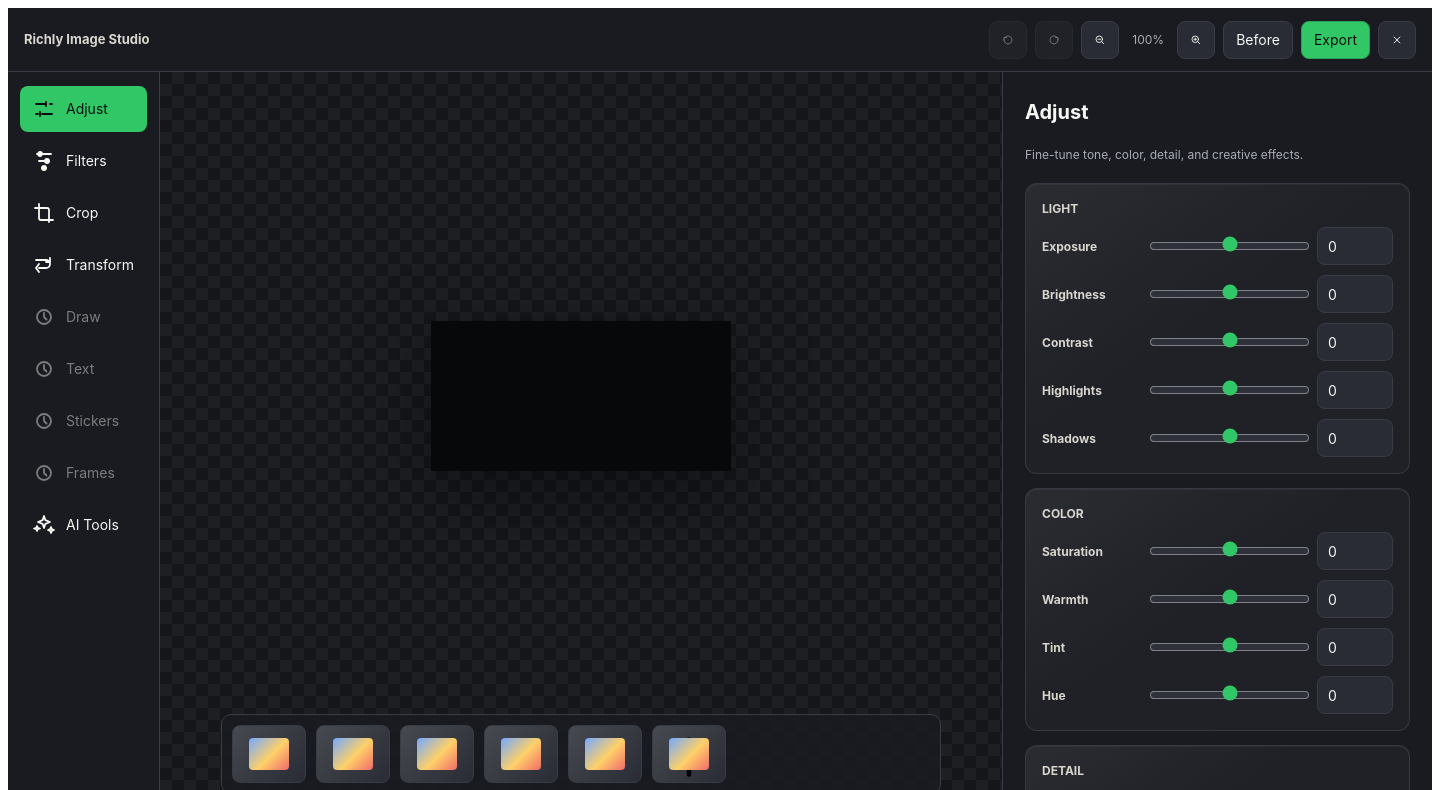
Test: ImageStudio UI and controller › enables AI Tools and surfaces provider status without auto-applying edits
The image size is (1440, 790).
Click the button "AI Tools" at x=84, y=525, box [20,502,147,548]
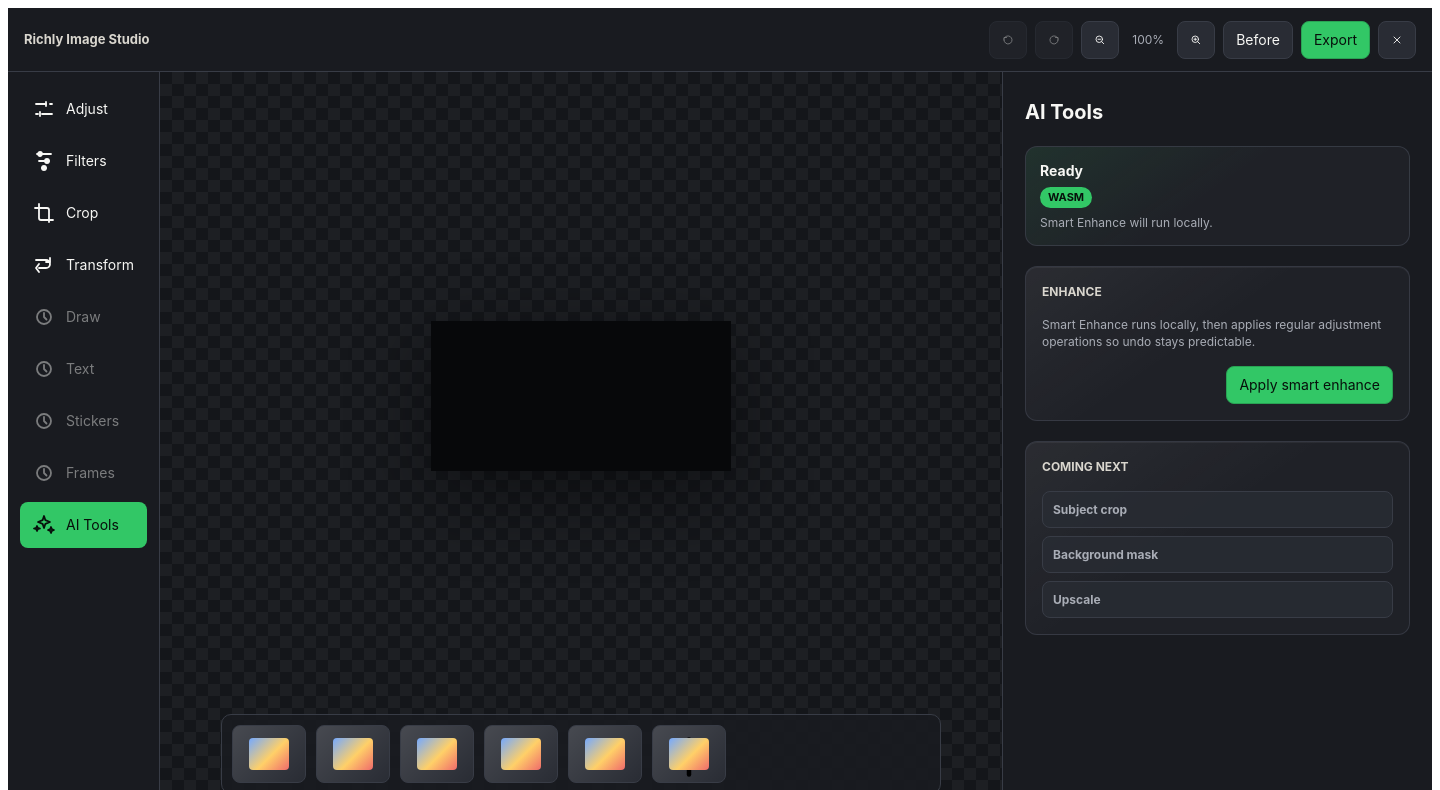
Expected: the element with class "ris-panel" shows "AI Tools", [1025,100,1103,124]
Expected: the element with class "ris-ai-status" shows "Ready", [1040,162,1083,179]
Expected: the element with class "ris-ai-status" shows "wasm", [1048,190,1084,204]
